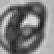correct: (0, 0, 47, 54)
